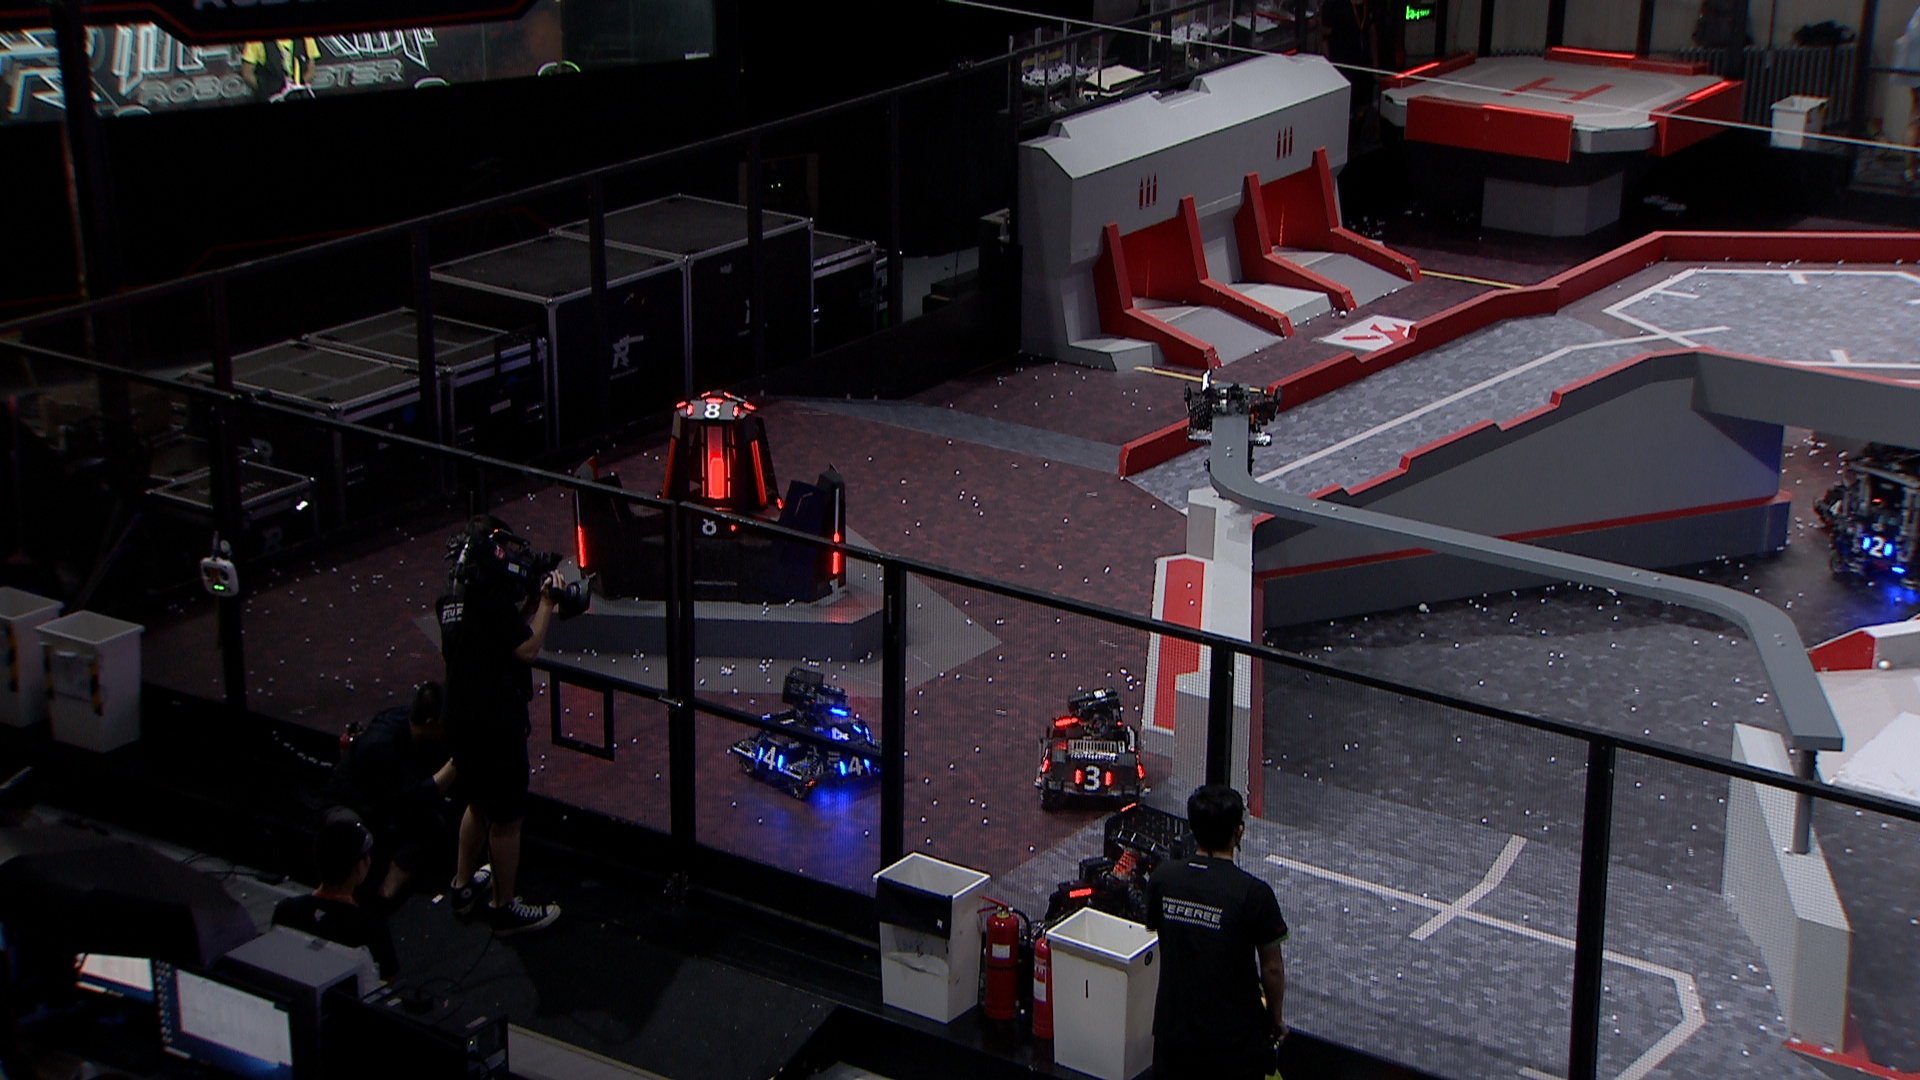armor: (750, 438, 769, 504), (661, 433, 676, 502), (686, 513, 736, 534), (1073, 765, 1112, 790), (705, 455, 727, 500), (684, 401, 737, 418), (822, 723, 858, 745), (836, 752, 869, 775), (1861, 533, 1894, 556), (756, 746, 785, 770), (829, 531, 843, 579), (574, 520, 585, 571), (1822, 496, 1845, 522), (1038, 741, 1048, 769)
base: (566, 389, 852, 604)
car: (1040, 800, 1224, 964), (728, 669, 887, 793), (1828, 438, 1920, 604), (1030, 683, 1150, 806), (1804, 465, 1898, 543)
watcher: (1182, 367, 1282, 483)
